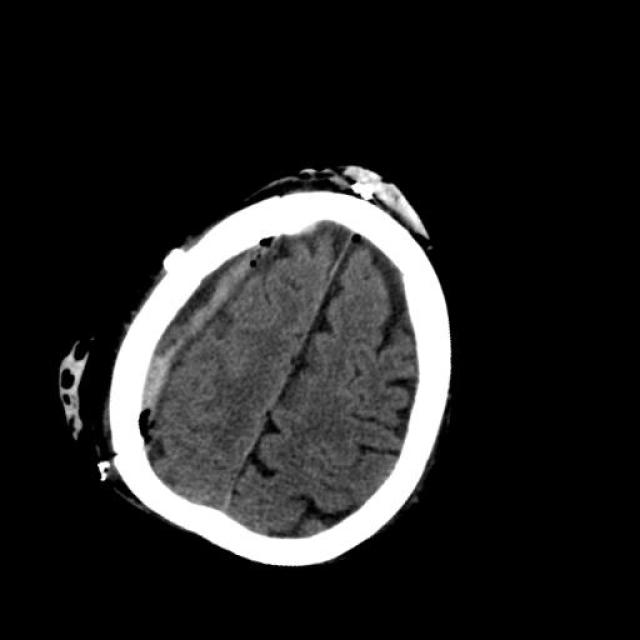Subdural: (74, 195, 271, 470)
